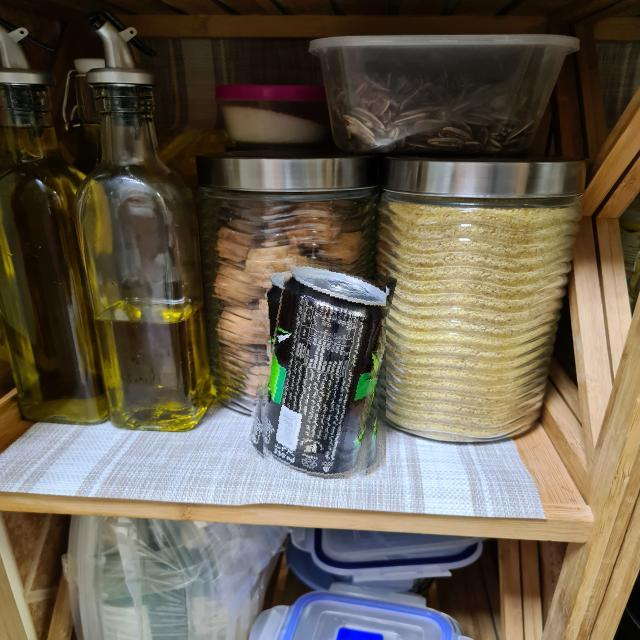recyclable: (252, 259, 386, 479)
